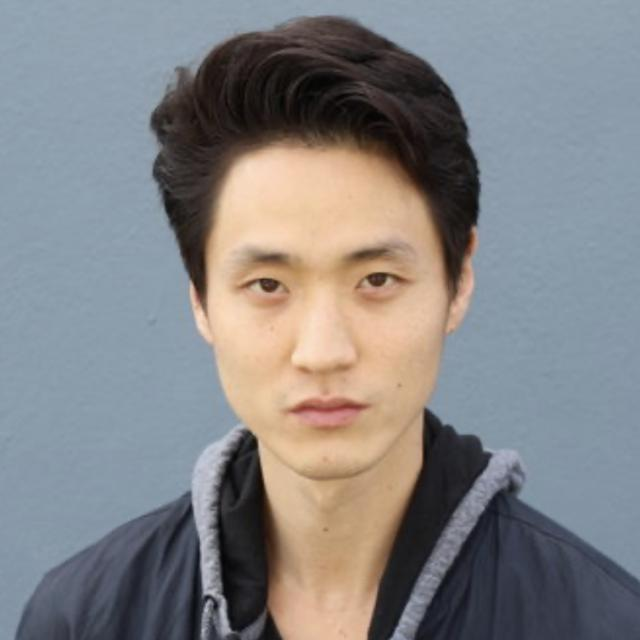natural: (165, 136, 472, 482)
